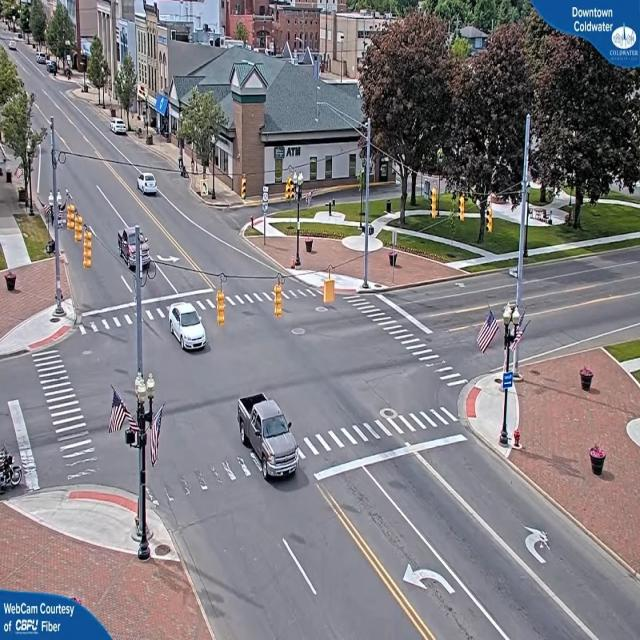car: (238, 394, 301, 481), (170, 305, 210, 352), (138, 173, 158, 197), (111, 119, 129, 136)
